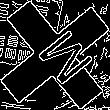M_SW: (21, 21, 89, 89)
